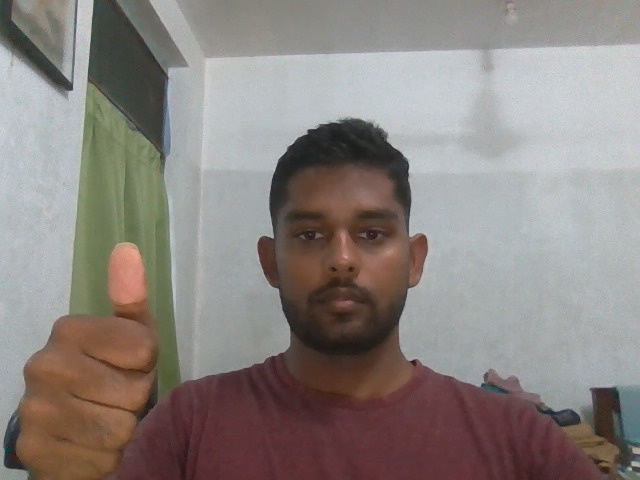good.: (9, 242, 175, 479)
